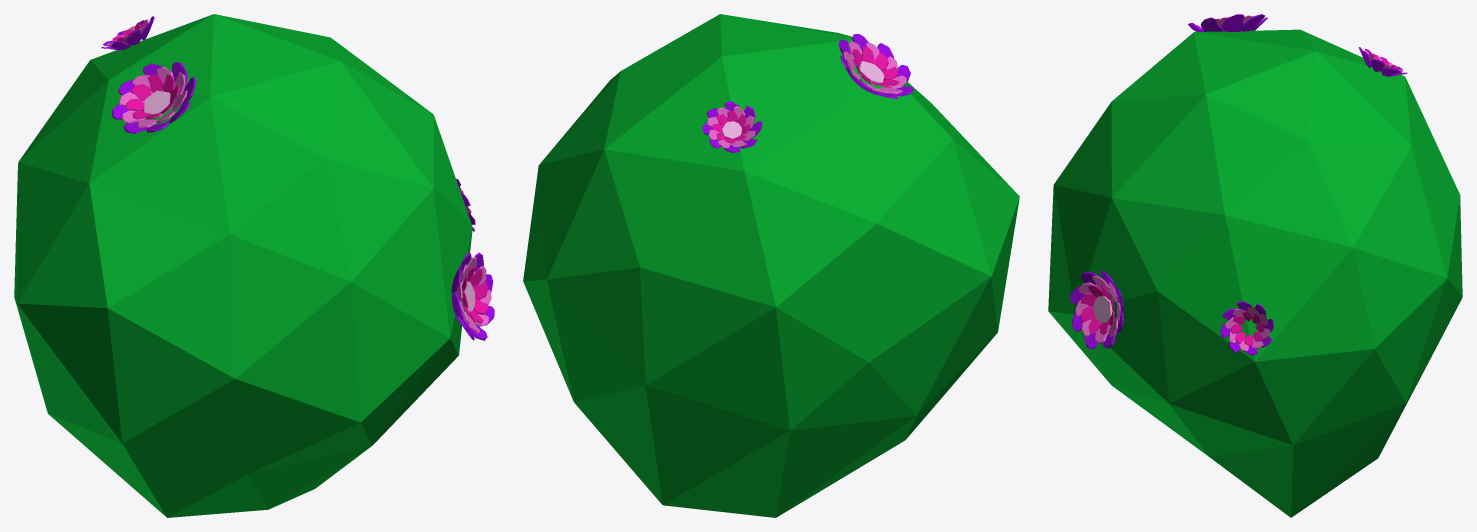
Rendered from zbun 2.fbx.
3 views of the same model, side by side, from view 1: azimuth 30°, elevation 25°; view 2: azimuth 150°, elevation 25°; view 3: azimuth 270°, elevation 25° (orthographic). The views are drawn at different scales.
Visible parts, largest first — view 1: Cylinder.104; view 2: Cylinder.104; view 3: Cylinder.104.
Boxes of the visible parts, x1=… form: Cylinder.104: x1=14, y1=14, x2=494, y2=517; Cylinder.104: x1=523, y1=14, x2=1019, y2=517; Cylinder.104: x1=1048, y1=14, x2=1462, y2=517.
Bounding box in the file's own units: 180 × 184 × 160.
